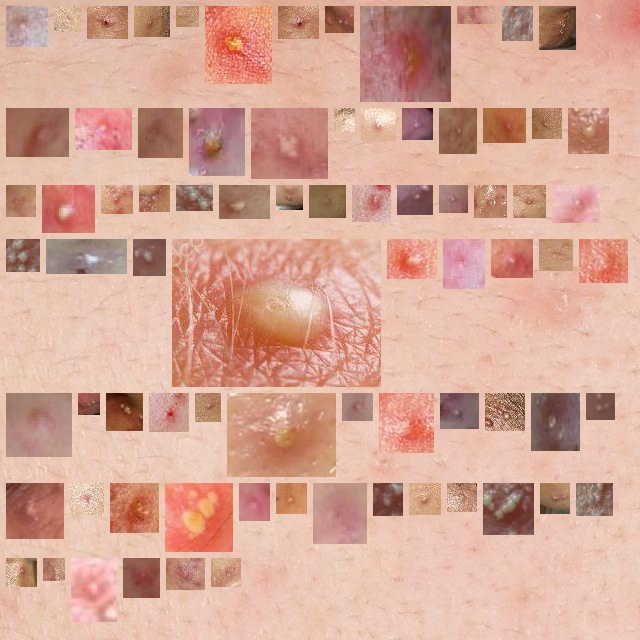pustule: (180, 247, 373, 379), (235, 401, 328, 469), (368, 14, 443, 94), (259, 116, 320, 171), (213, 14, 264, 76), (173, 491, 225, 544), (14, 401, 64, 449), (197, 116, 237, 168), (387, 401, 426, 445), (321, 491, 359, 536), (14, 491, 56, 531), (14, 116, 61, 149), (79, 566, 109, 614), (539, 401, 572, 443), (491, 491, 526, 527), (54, 247, 119, 266), (50, 193, 87, 225), (118, 491, 151, 525), (83, 116, 124, 142), (146, 116, 175, 150), (587, 247, 620, 275), (451, 247, 477, 281), (395, 247, 429, 271), (576, 116, 601, 146), (560, 193, 592, 215), (447, 116, 469, 146), (14, 14, 40, 39), (227, 193, 262, 211), (499, 247, 525, 270), (547, 14, 568, 42), (157, 401, 181, 424), (493, 401, 517, 423), (491, 116, 518, 135), (131, 566, 152, 590), (360, 193, 383, 214), (114, 401, 135, 423), (448, 401, 471, 421), (95, 14, 120, 31), (286, 14, 311, 31), (174, 566, 197, 582), (317, 193, 338, 210), (141, 247, 158, 268), (584, 491, 605, 508), (247, 491, 262, 513), (369, 116, 388, 133), (14, 247, 32, 264), (142, 14, 162, 29), (482, 193, 499, 210), (521, 193, 538, 210), (547, 247, 565, 263), (78, 491, 96, 507), (510, 14, 525, 33), (405, 193, 425, 207), (417, 491, 433, 507), (410, 116, 425, 132), (381, 491, 395, 508), (465, 6, 488, 16), (284, 491, 299, 506), (14, 193, 28, 209), (540, 116, 554, 131), (184, 193, 205, 203), (548, 491, 562, 506), (109, 193, 125, 206), (14, 566, 29, 579), (455, 491, 469, 504), (219, 566, 233, 579), (350, 401, 365, 413), (147, 193, 162, 204), (447, 193, 460, 205), (333, 14, 346, 25), (594, 401, 607, 412), (203, 401, 213, 414), (62, 14, 73, 24), (284, 193, 295, 202), (51, 566, 57, 573), (342, 116, 347, 124), (86, 401, 92, 407), (184, 14, 191, 19)
